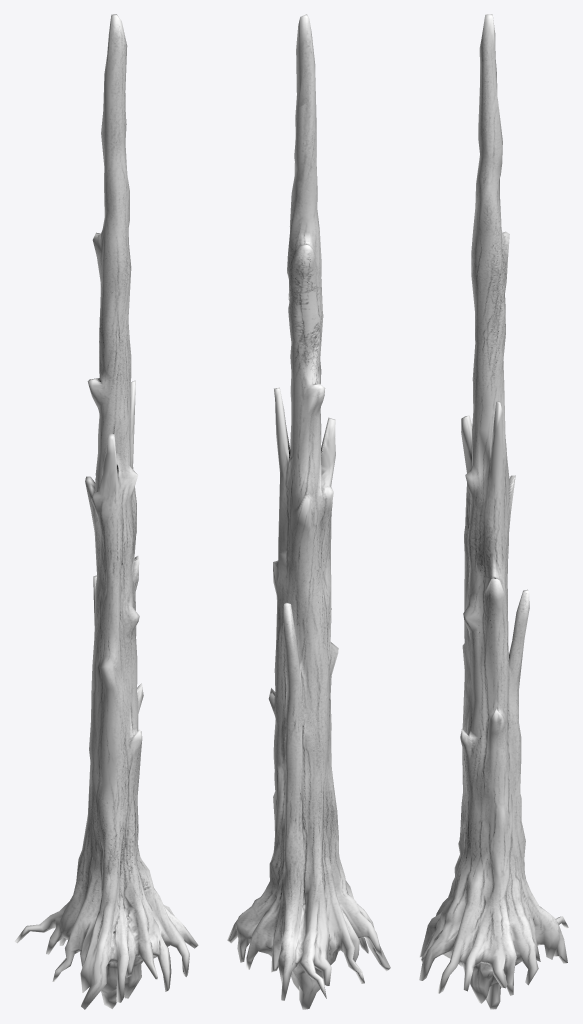
The model's file is CypressTree00e.fbx.
3 views of the same model, side by side, from view 1: azimuth 30°, elevation 25°; view 2: azimuth 150°, elevation 25°; view 3: azimuth 270°, elevation 25° (orthographic).
Visible parts, largest first — view 1: cypresstree00Trunk; view 2: cypresstree00Trunk; view 3: cypresstree00Trunk.
Part boxes in pixels (x1,y1,x2,y2): cypresstree00Trunk: (14, 14, 198, 1009); cypresstree00Trunk: (227, 14, 390, 1009); cypresstree00Trunk: (419, 14, 568, 1009).
Size of the model in its own units: 288 by 2070 by 282.
